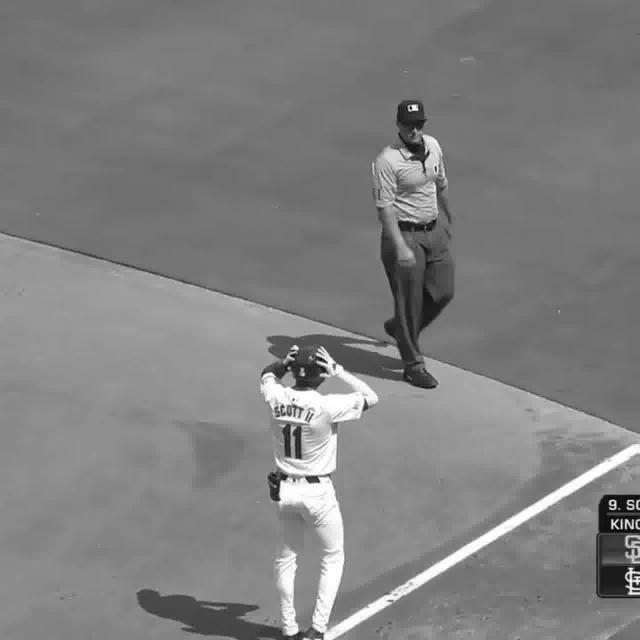shoe: (402, 363, 441, 384), (283, 630, 336, 640)
